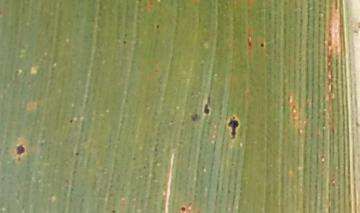tarspot: (226, 114, 242, 143), (14, 143, 27, 160), (202, 104, 214, 115), (258, 40, 268, 50), (153, 23, 164, 31), (177, 205, 188, 212), (108, 207, 120, 213), (73, 151, 82, 158)
